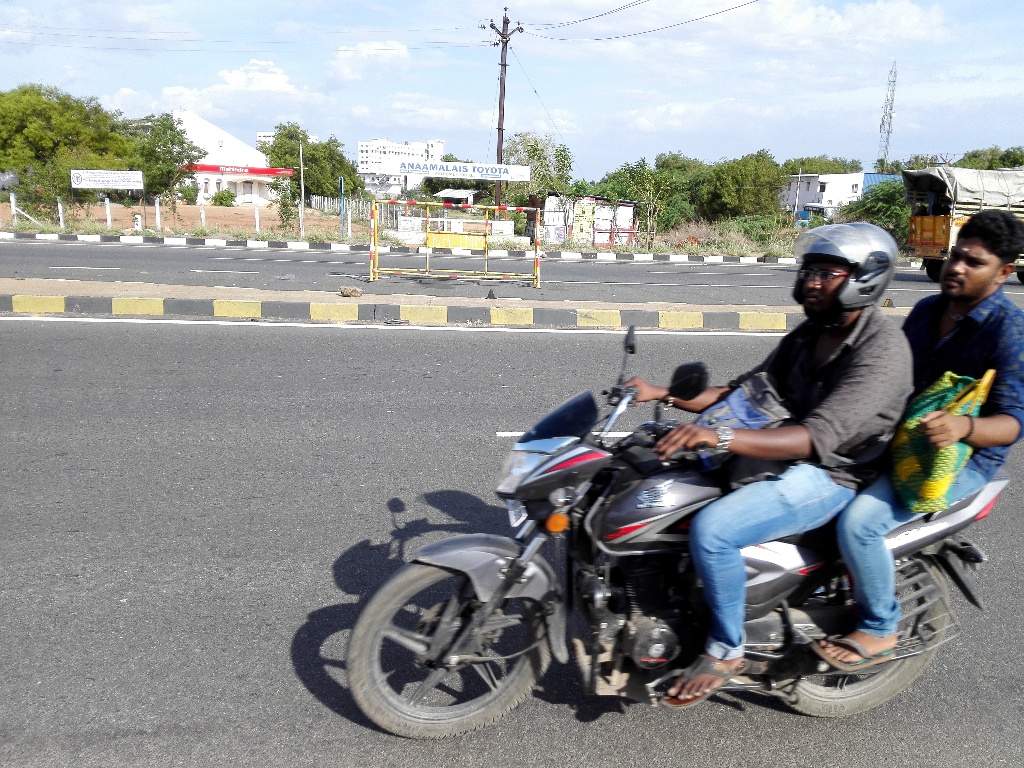biker: (333, 166, 1024, 761)
helmet: (778, 207, 905, 343)
nohelmet: (928, 202, 1024, 317)
